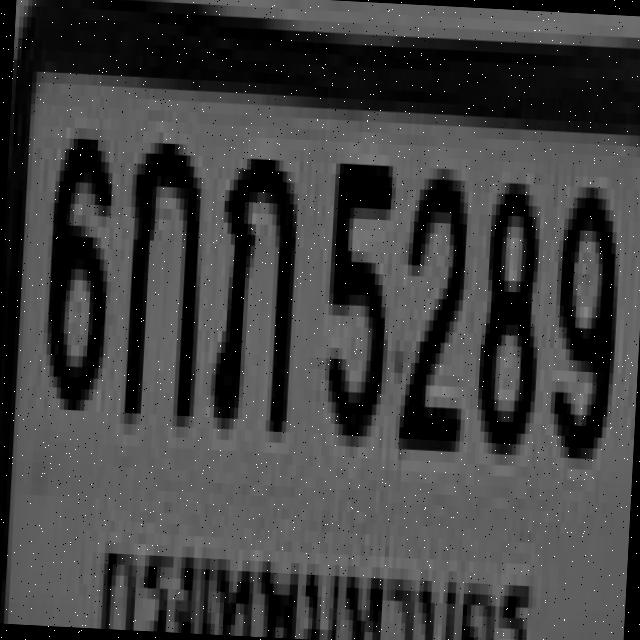10GorGai: (118, 131, 206, 416)
2: (395, 156, 471, 442)
41PhorSamPhao: (206, 146, 296, 422)
5: (318, 152, 394, 438)
6: (40, 127, 111, 400)
8: (472, 172, 543, 446)
9: (545, 175, 620, 449)
